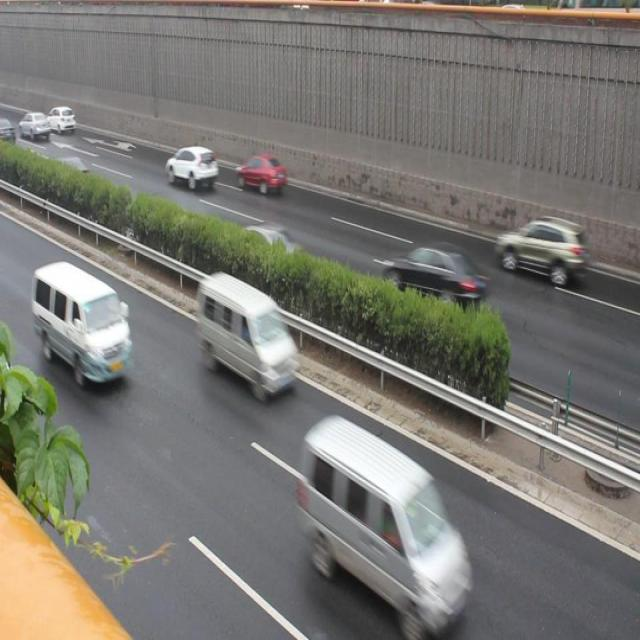car: (383, 241, 484, 321), (498, 213, 590, 293), (234, 218, 309, 268), (164, 139, 221, 193), (236, 152, 285, 198), (51, 148, 93, 192)
truck: (300, 412, 480, 626), (32, 258, 130, 396), (195, 271, 297, 395)
